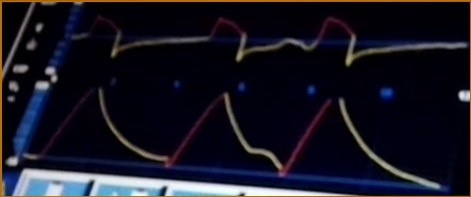Ineffective_effort Flow: (71, 10, 463, 67)
Ineffective_effort Volume: (25, 88, 438, 189)
